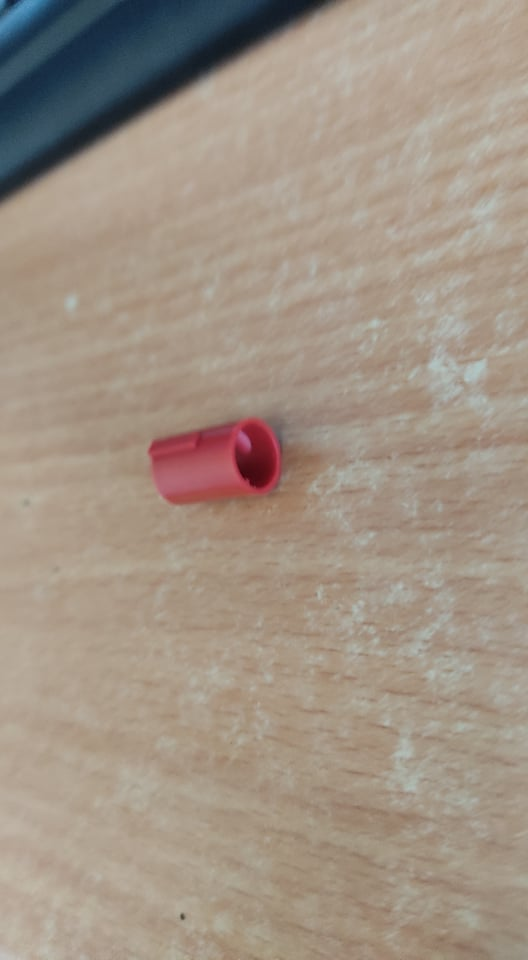red_bucking: (132, 418, 291, 505)
